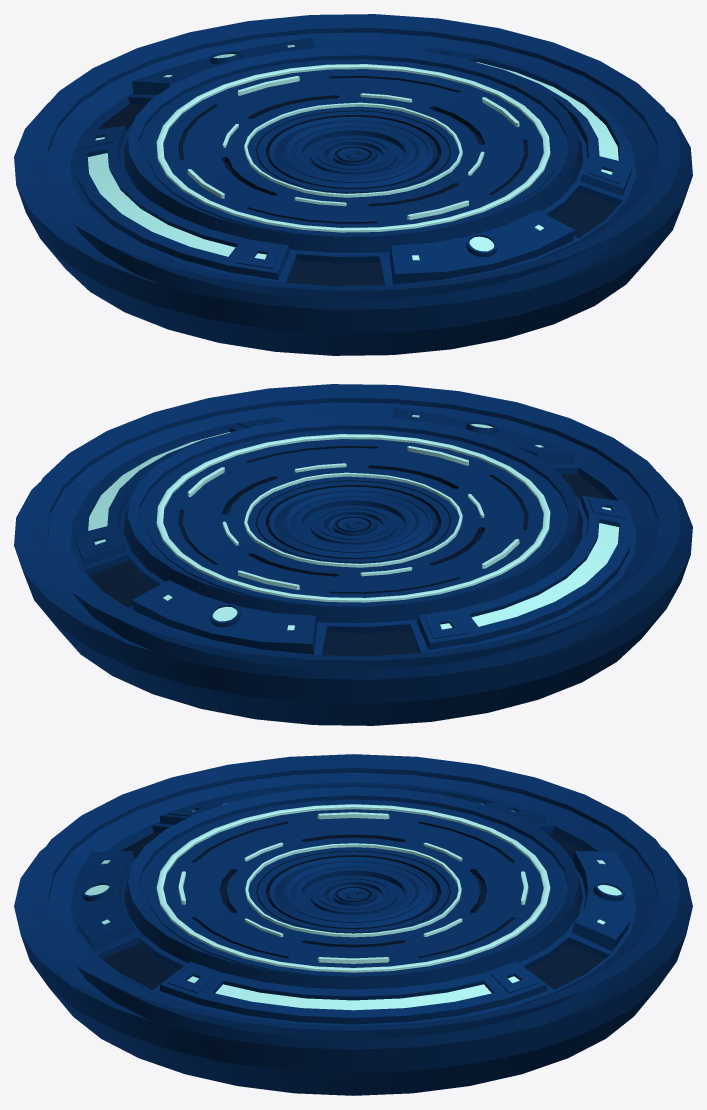
The model's file is platform.fbx.
3 renders of one model, top to bottom at view 1: azimuth 30°, elevation 25°; view 2: azimuth 150°, elevation 25°; view 3: azimuth 270°, elevation 25°, orthographic.
Parts seen in each view (by area): view 1: Circle; view 2: Circle; view 3: Circle.
Boxes of the visible parts, x1=… form: Circle: x1=14, y1=14, x2=692, y2=355; Circle: x1=14, y1=384, x2=692, y2=725; Circle: x1=14, y1=754, x2=692, y2=1095.
Size of the model in its own units: 449 by 62.28 by 449.
